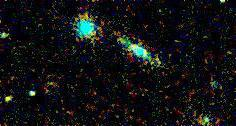star: (0, 85, 21, 115)
